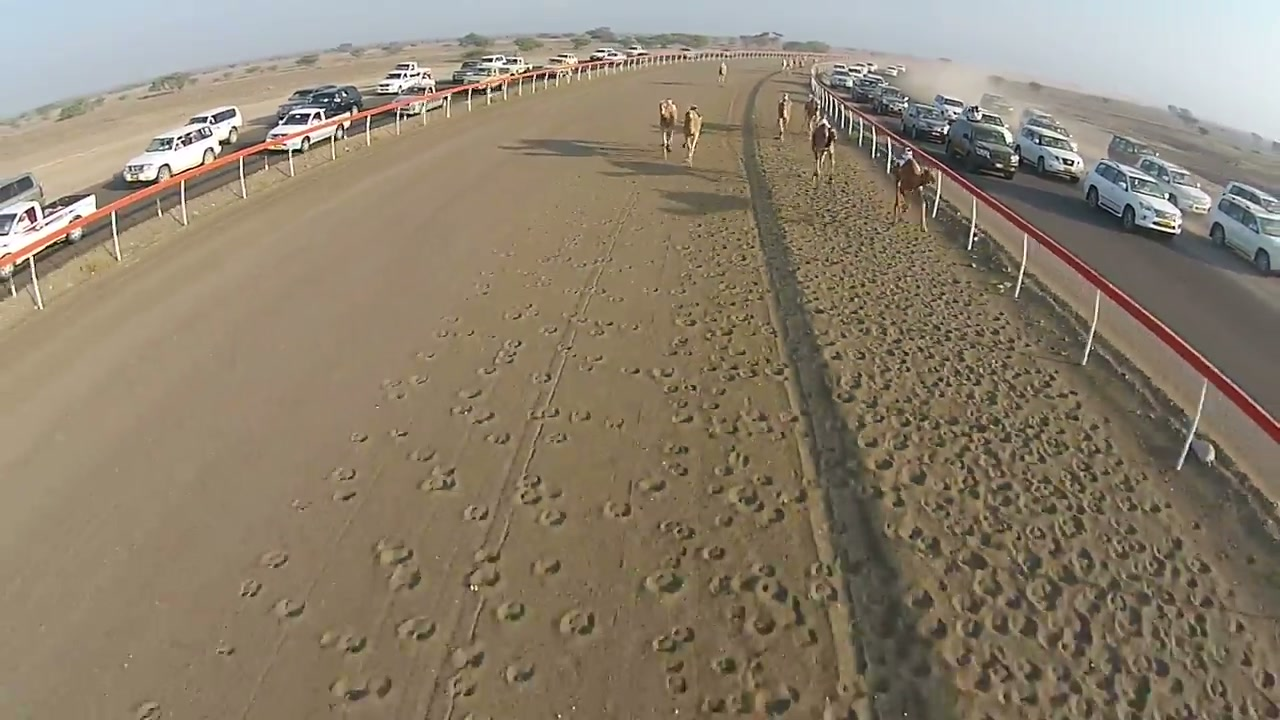animal_foot_print: (240, 135, 1273, 719), (754, 142, 1279, 719), (428, 185, 838, 716), (319, 630, 367, 654)
